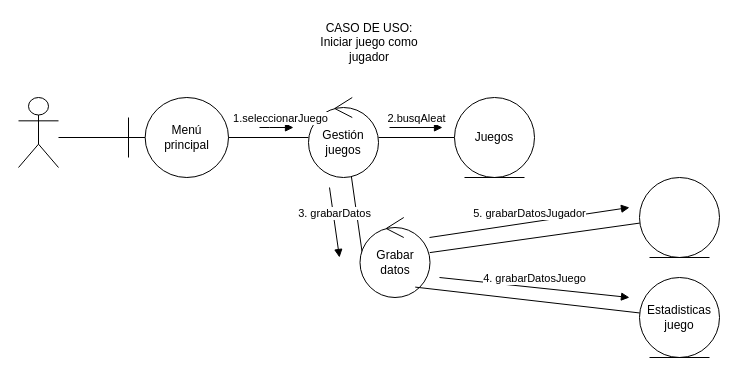
Image size: 737x375. Some labels were removed from this diagram. Each missing label, with the centre of its shape:
Estadisticas jugador: [679,217]
Jugador: [38,132]
